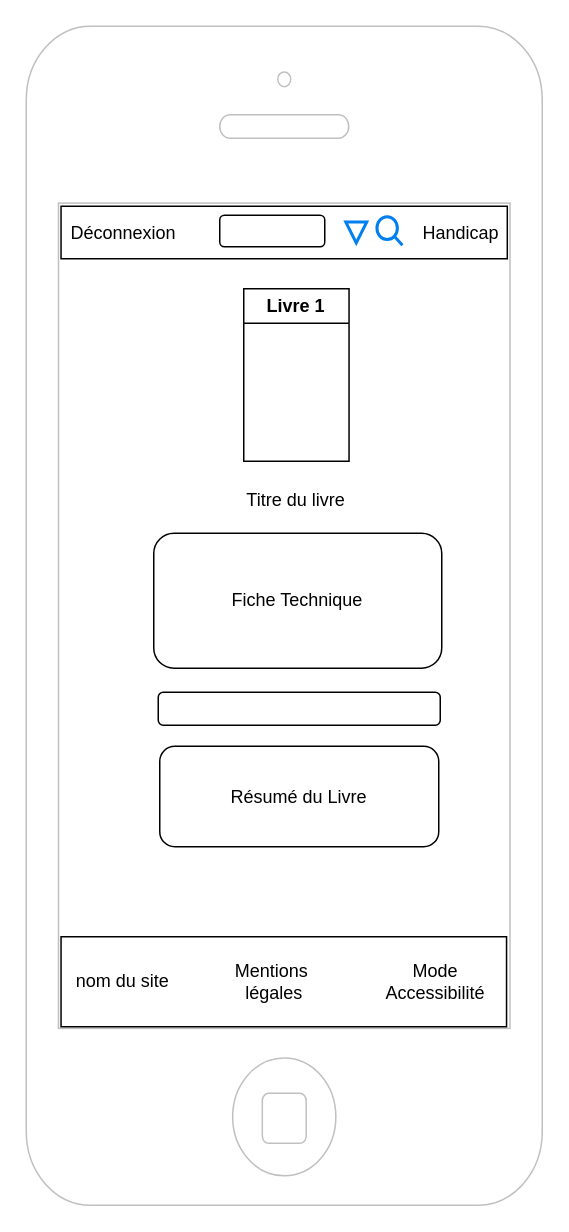
The diagram is 569 pixels wide and 1232 high, and some of its shapes have lost their labels. The shapes that lost their labels are listed below. From the top down, each one's centre as x and y in pixels, then its label:
At (271,230): "Logo".
At (298,708): "Ajouter à ma bibliothèque".
